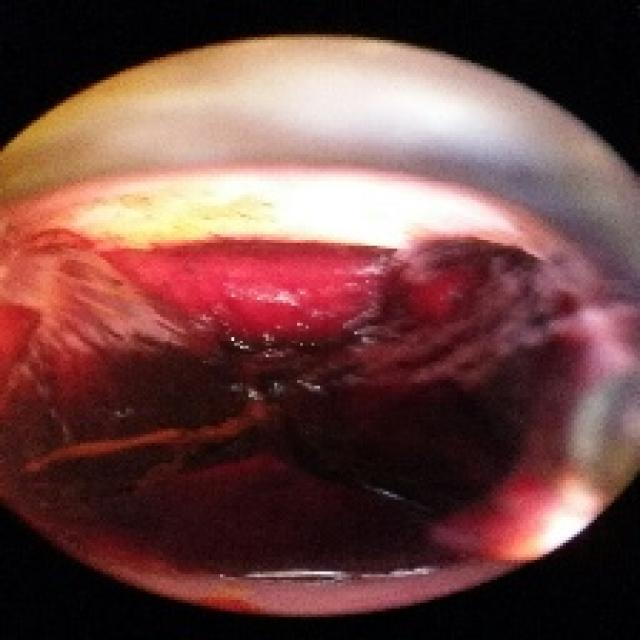type-3: (0, 76, 606, 580)
